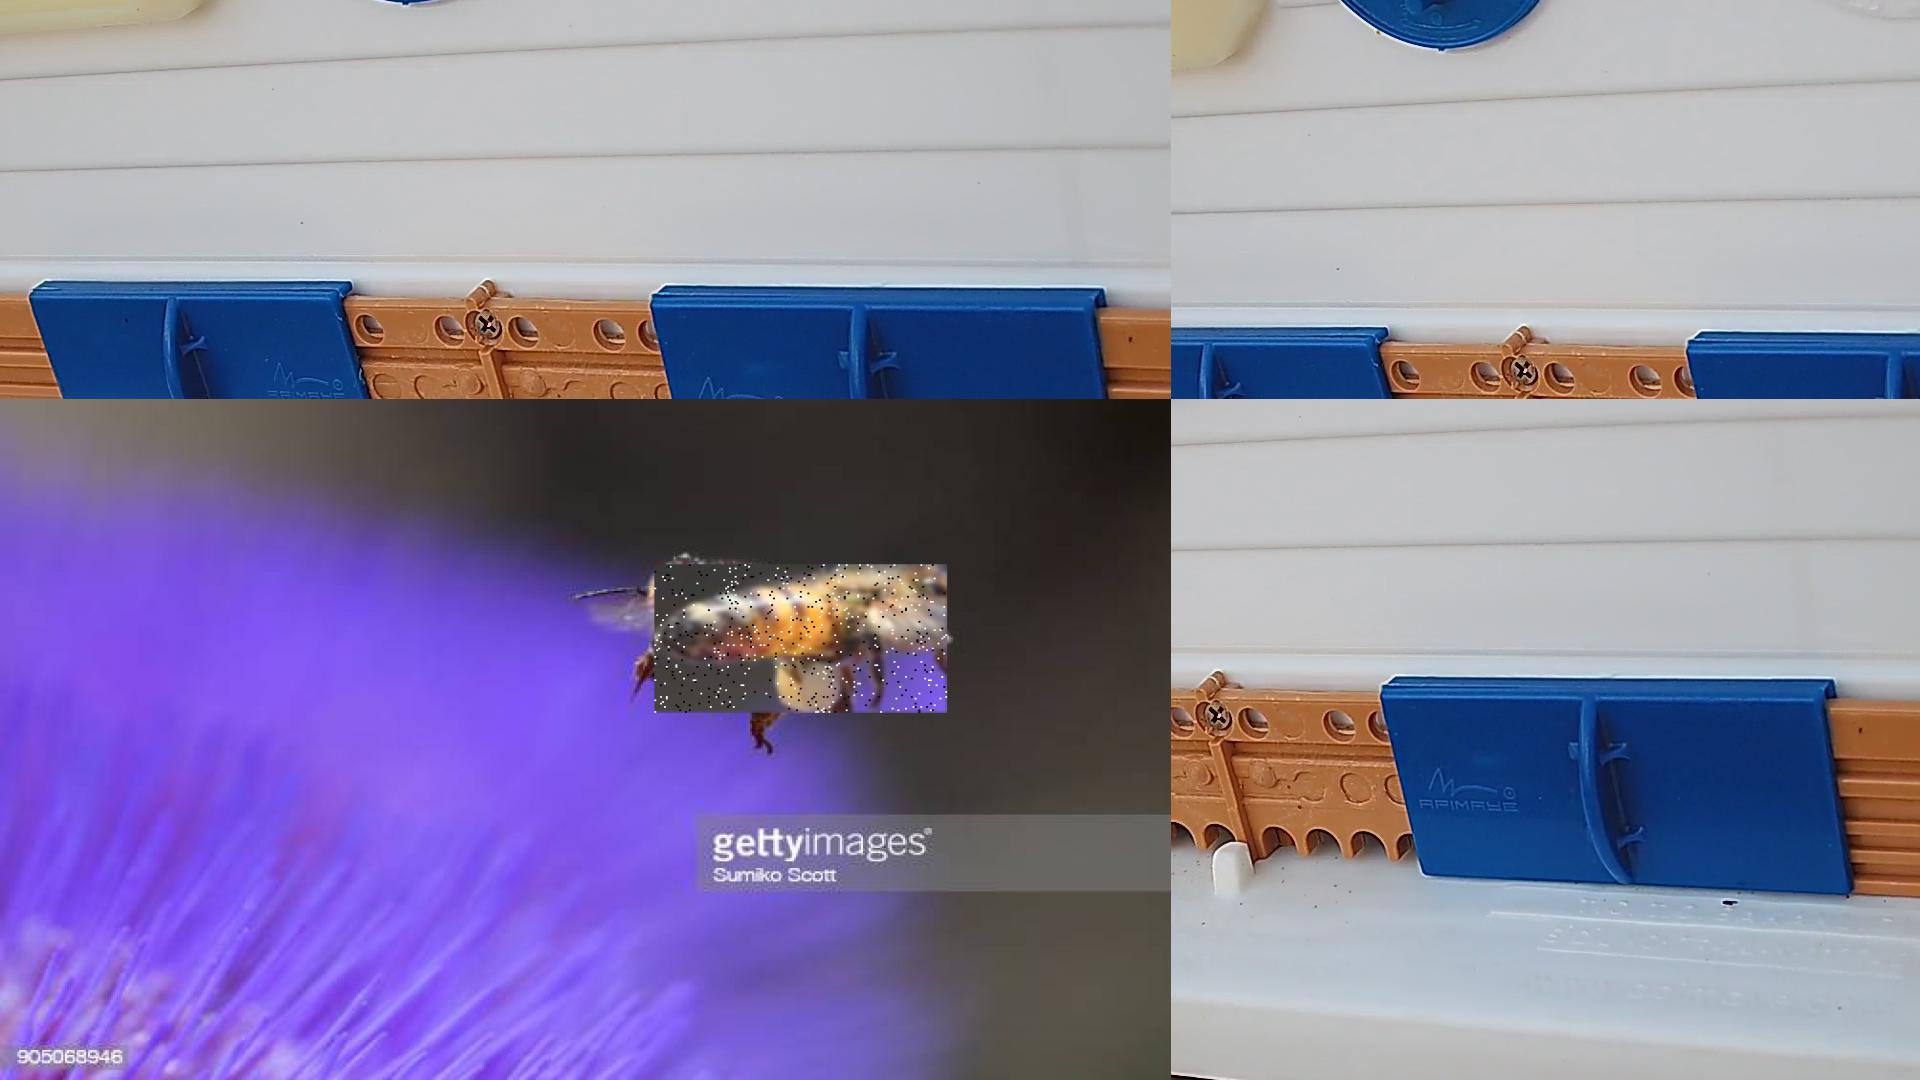pollenbee: (654, 564, 949, 715)
